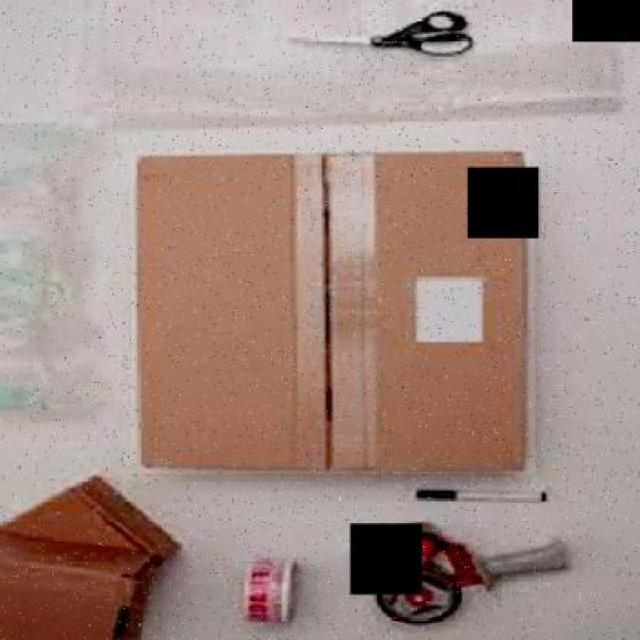box: (131, 149, 535, 474)
